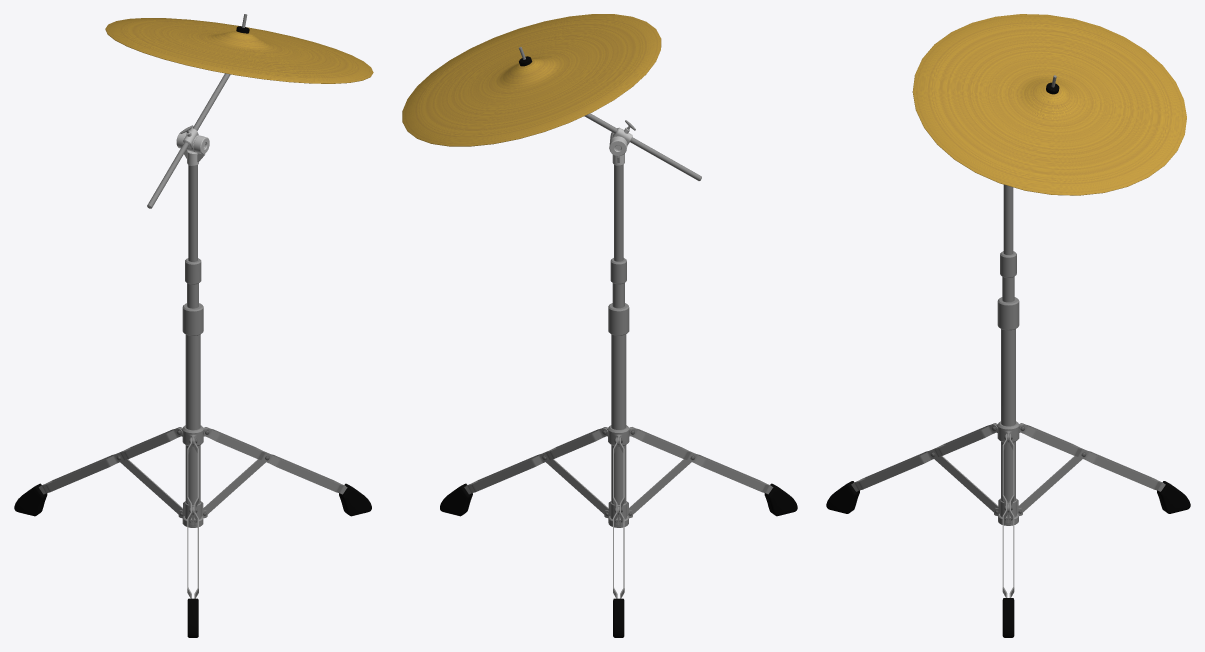
The model's file is ride.fbx.
The picture shows the model from 3 angles, left to right: view 1: azimuth 30°, elevation 25°; view 2: azimuth 150°, elevation 25°; view 3: azimuth 270°, elevation 25°; orthographic projection.
Visible parts, largest first — view 1: Stand_Extender_Rod, Cymbal_Ride; view 2: Cymbal_Ride, Stand_Extender_Rod; view 3: Cymbal_Ride, Stand_Extender_Rod.
Part boxes in pixels (box(x1,y1,x2,y2)): Stand_Extender_Rod: box(14, 14, 371, 637); Cymbal_Ride: box(105, 18, 373, 83); Cymbal_Ride: box(402, 14, 661, 146); Stand_Extender_Rod: box(440, 47, 797, 637); Cymbal_Ride: box(912, 14, 1186, 195); Stand_Extender_Rod: box(826, 75, 1190, 637).
Bounding box in the file's own units: 106 × 189 × 121.
1 material, 1 textured.
